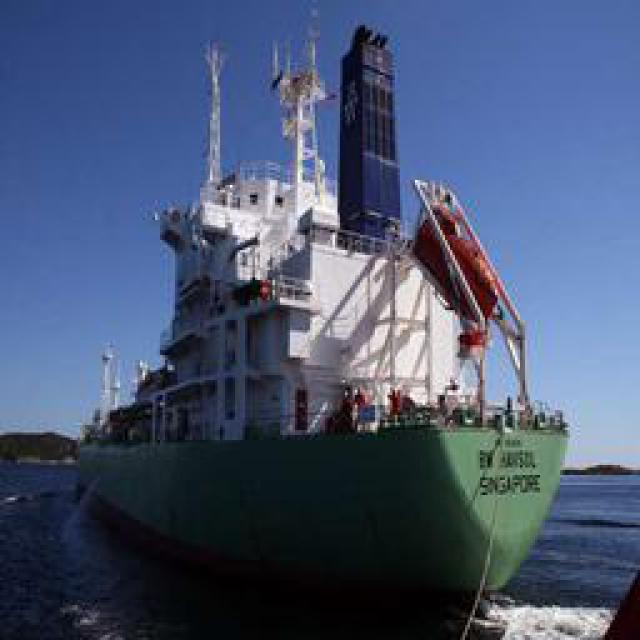Ship: (73, 37, 571, 610)
